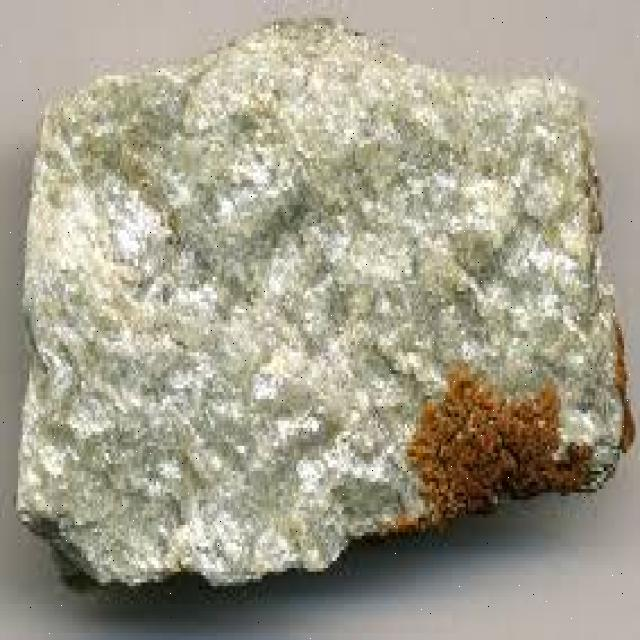Metamorphic: (14, 32, 633, 597)
